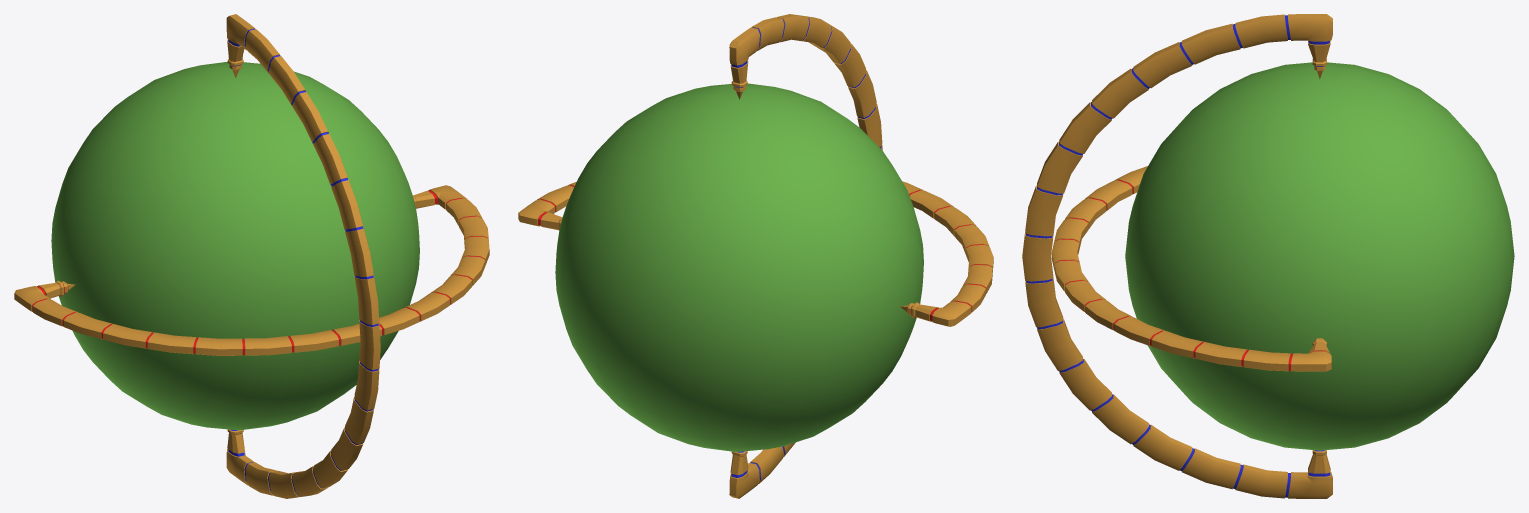
Rendered from BrassAxis.glb.
The picture shows the model from 3 angles, left to right: view 1: azimuth 30°, elevation 25°; view 2: azimuth 150°, elevation 25°; view 3: azimuth 270°, elevation 25°; orthographic projection. The views are drawn at different scales.
Visible parts, largest first — view 1: Sphere, Circle.002, Circle; view 2: Sphere, Circle.002, Circle; view 3: Sphere, Circle.002, Circle.
Boxes of the visible parts, <box> form: Sphere: <box>51,61,419,430</box>; Circle.002: <box>226,14,380,498</box>; Circle: <box>14,185,489,355</box>; Sphere: <box>555,83,923,451</box>; Circle.002: <box>729,14,882,498</box>; Circle: <box>518,181,993,326</box>; Sphere: <box>1125,62,1514,450</box>; Circle.002: <box>1022,14,1332,498</box>; Circle: <box>1051,166,1331,371</box>.
Bounding box in the file's own units: 10.4 × 10.4 × 9.64.
